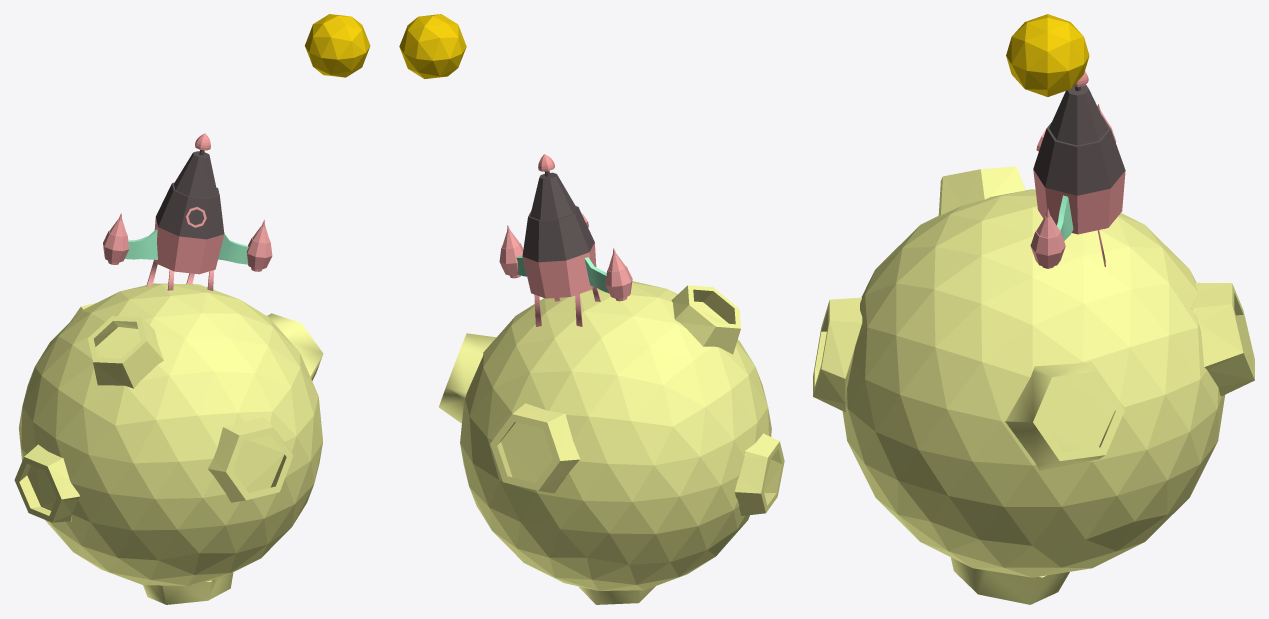
The model's file is island.glb.
3 renders of one model, left to right at view 1: azimuth 30°, elevation 25°; view 2: azimuth 150°, elevation 25°; view 3: azimuth 270°, elevation 25°, orthographic. The views are drawn at different scales.
Visible parts, largest first — view 1: GeoSphere001, Object001_02 - Default_0, GeoSphere002, Cylinder007, Cylinder011, Cylinder010, Line002, Line001; view 2: GeoSphere001, Object001_02 - Default_0, GeoSphere002, Cylinder007, Cylinder011, Cylinder010; view 3: GeoSphere001, Object001_02 - Default_0, GeoSphere002, Cylinder007, Cylinder010.
Part boxes in pixels (box(x1,y1,x2,y2)): GeoSphere001: box(14, 283, 323, 604); Object001_02 - Default_0: box(156, 151, 224, 239); GeoSphere002: box(305, 14, 370, 77); Cylinder007: box(154, 217, 224, 274); Cylinder011: box(103, 213, 129, 264); Cylinder010: box(246, 220, 272, 271); Line002: box(125, 229, 157, 259); Line001: box(218, 233, 248, 264); GeoSphere001: box(439, 281, 784, 604); Object001_02 - Default_0: box(522, 172, 594, 262); GeoSphere002: box(399, 14, 466, 78); Cylinder007: box(522, 242, 596, 298); Cylinder011: box(605, 248, 632, 301); Cylinder010: box(499, 225, 523, 278); GeoSphere001: box(813, 166, 1254, 604); Object001_02 - Default_0: box(1033, 85, 1125, 195); GeoSphere002: box(1006, 14, 1089, 96); Cylinder007: box(1033, 169, 1125, 234); Cylinder010: box(1030, 209, 1065, 268).
Size of the model in its own units: 158 by 230 by 136.
